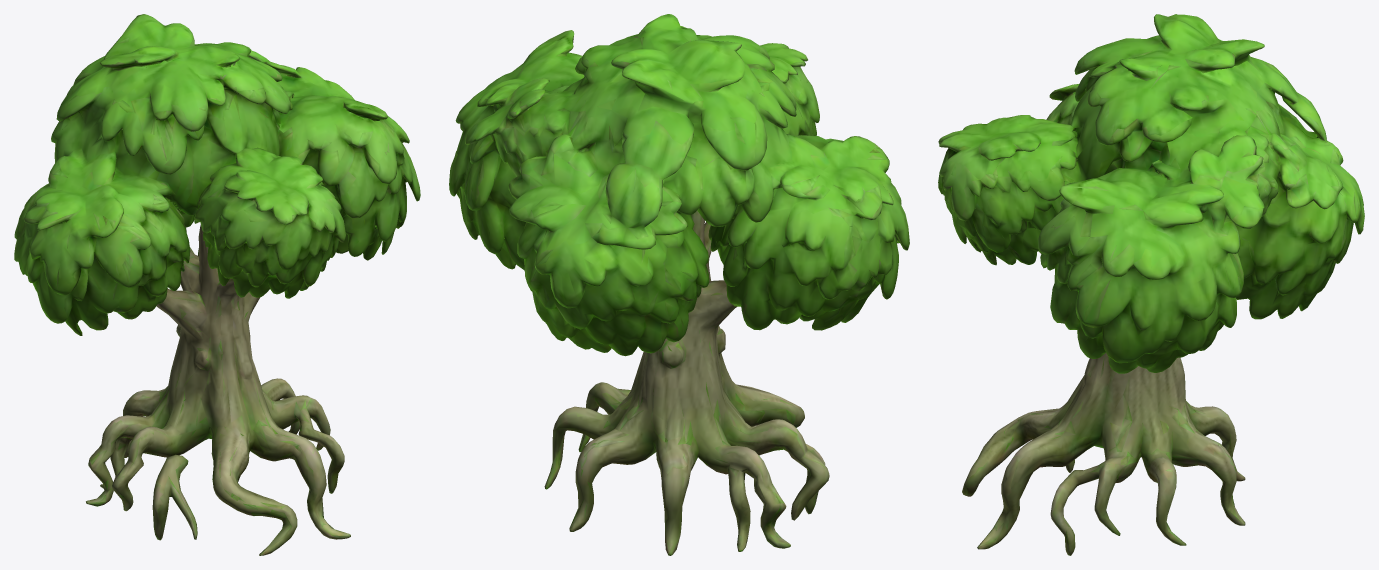
Rendered from tree1.glb.
The picture shows the model from 3 angles, left to right: view 1: azimuth 30°, elevation 25°; view 2: azimuth 150°, elevation 25°; view 3: azimuth 270°, elevation 25°; orthographic projection. The views are drawn at different scales.
Parts seen in each view (by area): view 1: Mesh_0; view 2: Mesh_0; view 3: Mesh_0.
Part boxes in pixels (<box>): Mesh_0: <box>14,14,420,555</box>; Mesh_0: <box>449,14,909,555</box>; Mesh_0: <box>938,14,1364,555</box>.
Bounding box in the file's own units: 1.66 × 1.9 × 1.55.
1 material, 1 textured.
